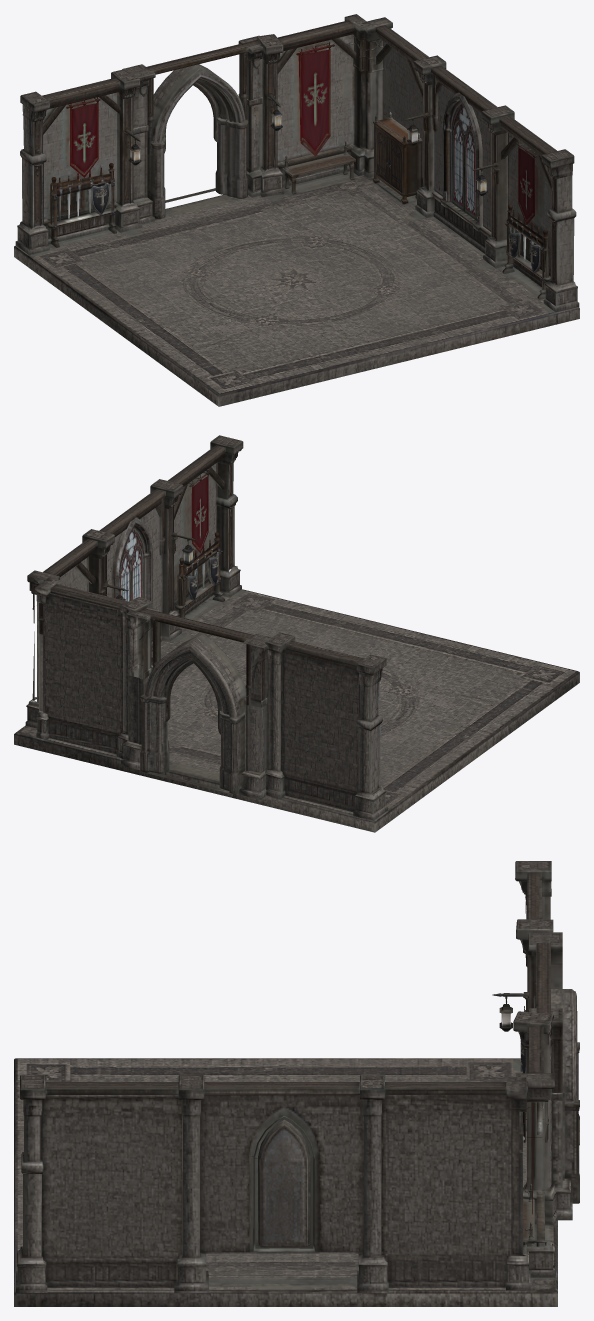
Rendered from medieval castle interior 3d model.glb.
3 renders of one model, top to bottom at view 1: azimuth 30°, elevation 25°; view 2: azimuth 150°, elevation 25°; view 3: azimuth 270°, elevation 25°, orthographic. The views are drawn at different scales.
Parts seen in each view (by area): view 1: bf19ea1b_e149_4d15_b6f0_63a896fa3d19; view 2: bf19ea1b_e149_4d15_b6f0_63a896fa3d19; view 3: bf19ea1b_e149_4d15_b6f0_63a896fa3d19.
Boxes of the visible parts, x1,y1,x2,y2 form: bf19ea1b_e149_4d15_b6f0_63a896fa3d19: [14, 14, 579, 406]; bf19ea1b_e149_4d15_b6f0_63a896fa3d19: [14, 435, 579, 832]; bf19ea1b_e149_4d15_b6f0_63a896fa3d19: [14, 861, 579, 1306].
Size of the model in its own units: 0.9771 by 0.4204 by 0.9995.
Materials: 1 (1 with a texture image).
